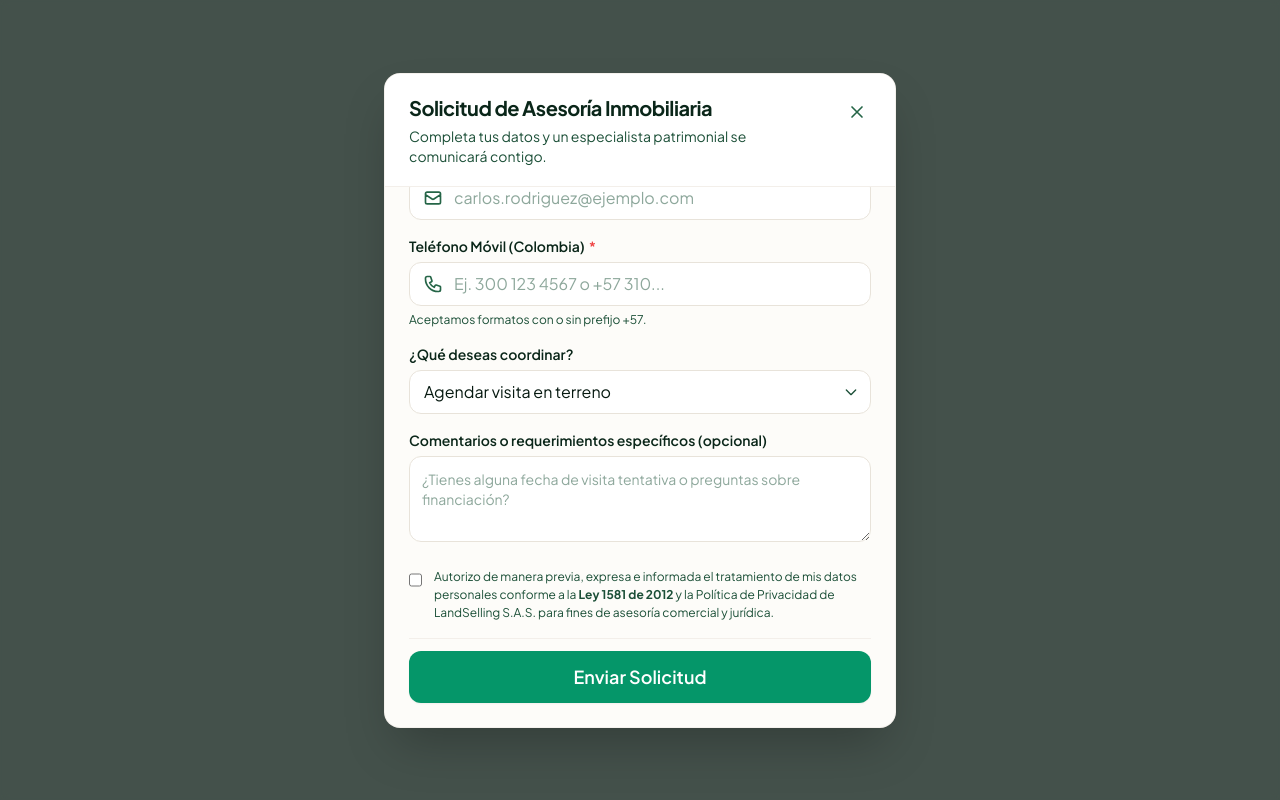
Scenario: Task 9: Modal de Captación de Leads y Botón Flotante de WhatsApp › <ContactLeadModal /> › muestra errores de validación si se envía el formulario vacío o inválido
(page scrolled)
Click the button "Enviar Solicitud": (640, 676) [409, 650, 871, 702]
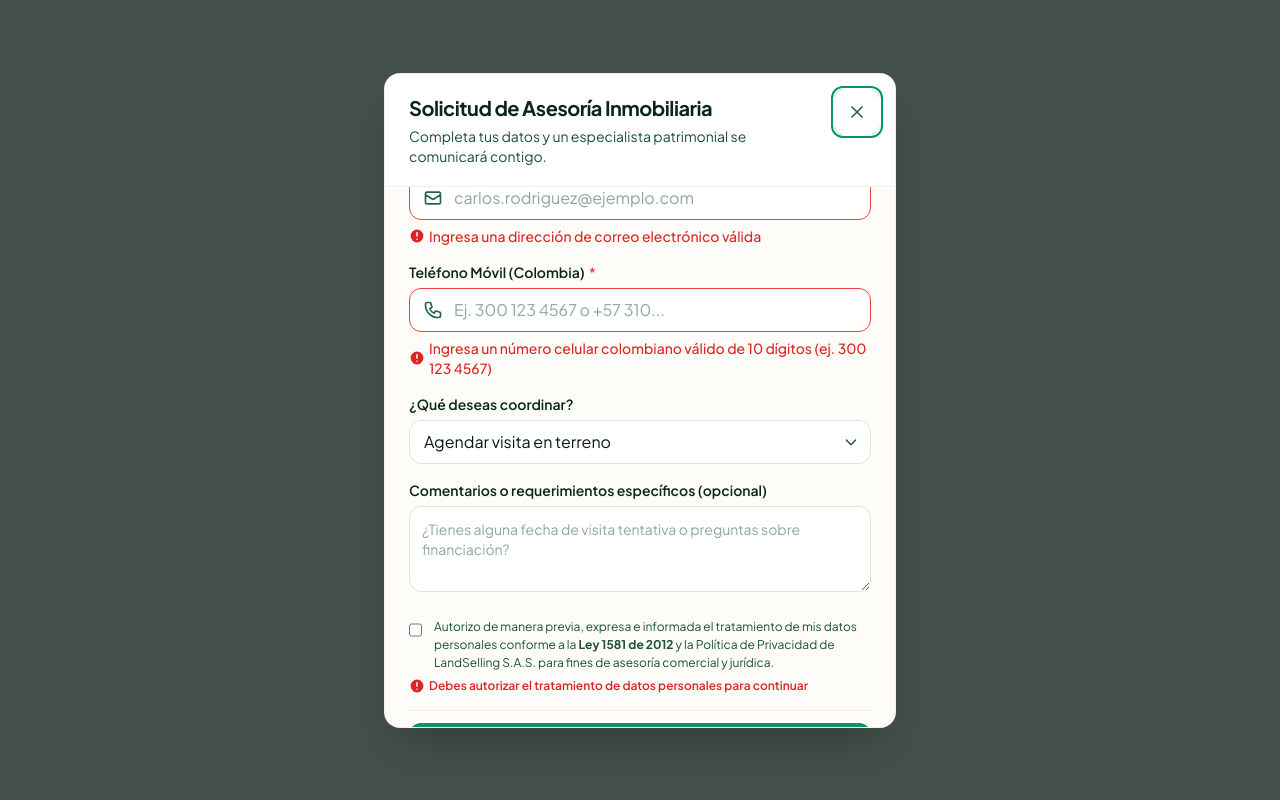
Check: the text "Ingresa una dirección de correo electrónico válida" is shown, box [429, 226, 761, 246]
Check: the text "Ingresa un número celular colombiano válido" is shown, box [429, 338, 866, 376]
Check: the text "Debes autorizar el tratamiento de datos personales" is shown, box [429, 678, 808, 692]
